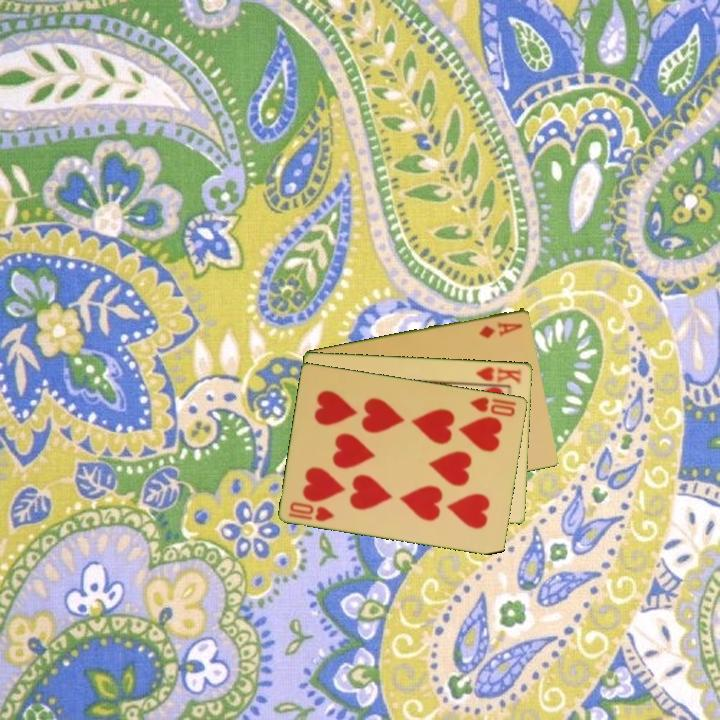10h: (467, 393, 519, 419), (285, 498, 337, 524)
Ad: (475, 318, 525, 341)
Kh: (469, 363, 524, 387)
